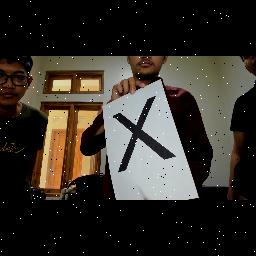x: (102, 94, 180, 174)
